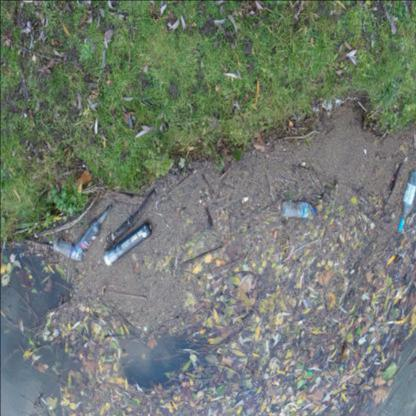Bottle cap: (75, 206, 112, 254), (397, 170, 416, 231), (53, 236, 84, 261), (281, 201, 316, 218)
Can: (103, 222, 152, 266)
